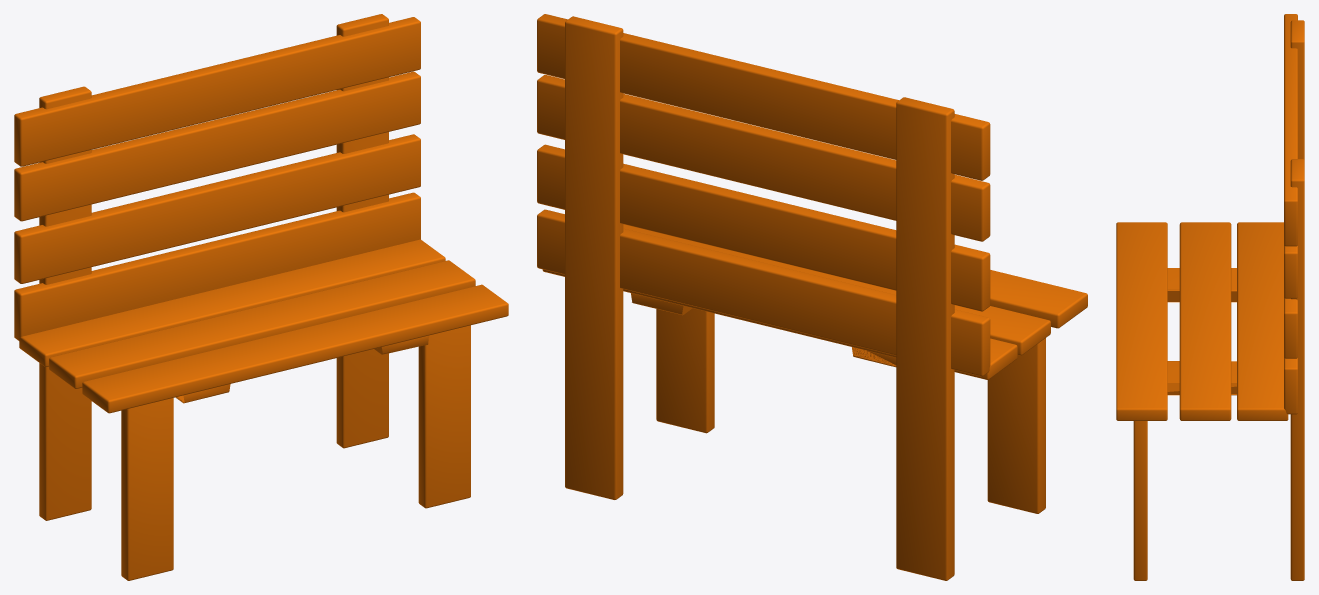
The model's file is Bench_Cvl_26-09.fbx.
3 renders of one model, left to right at view 1: azimuth 30°, elevation 25°; view 2: azimuth 150°, elevation 25°; view 3: azimuth 270°, elevation 25°, orthographic. The views are drawn at different scales.
Parts seen in each view (by area): view 1: Cube.007; view 2: Cube.007; view 3: Cube.007.
Boxes of the visible parts, x1,y1,x2,y2 form: Cube.007: [14, 14, 508, 580]; Cube.007: [537, 14, 1087, 580]; Cube.007: [1116, 14, 1304, 580].
Size of the model in its own units: 230 by 230 by 97.95.
